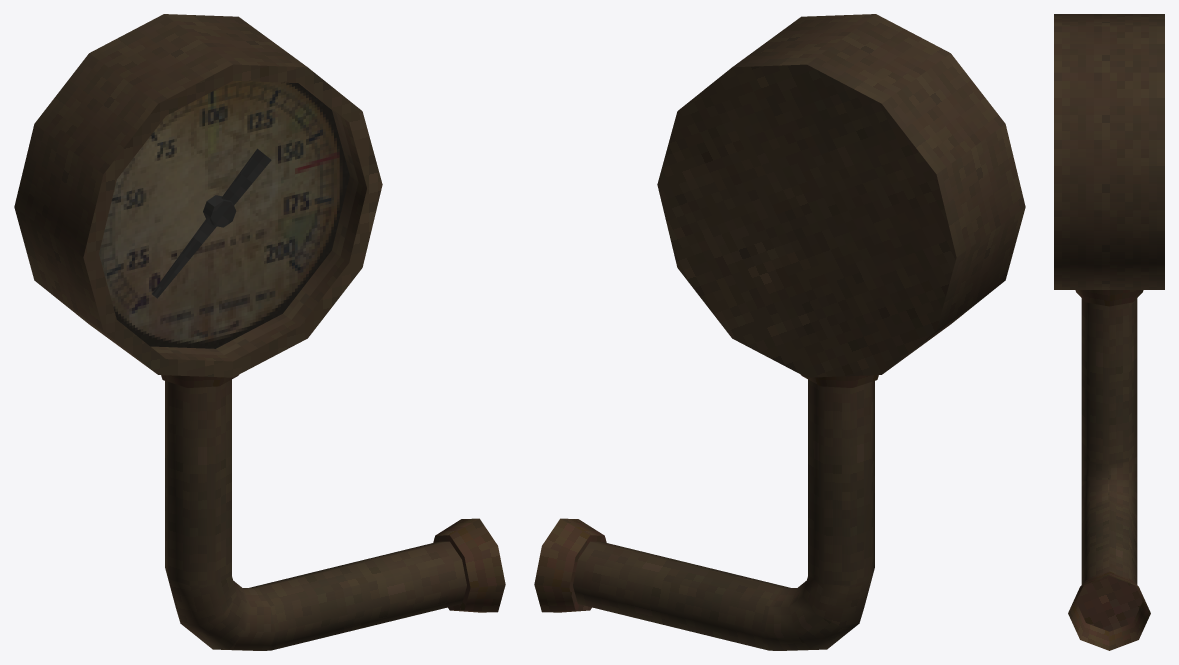
File: gauge_etx_3_1.glb
3 renders of one model, left to right at view 1: azimuth 30°, elevation 25°; view 2: azimuth 150°, elevation 25°; view 3: azimuth 270°, elevation 25°, orthographic. The views are drawn at different scales.
Visible parts, largest first — view 1: gauge_etx_3_1, gauge_pointer_etx_3_1_child; view 2: gauge_etx_3_1; view 3: gauge_etx_3_1.
Part boxes in pixels (box(x1,y1,x2,y2)): gauge_etx_3_1: box(14, 14, 505, 650); gauge_pointer_etx_3_1_child: box(152, 148, 271, 298); gauge_etx_3_1: box(534, 14, 1025, 650); gauge_etx_3_1: box(1054, 14, 1164, 650).
Size of the model in its own units: 0.288 by 0.41 by 0.08.
3 materials, 3 textured.
